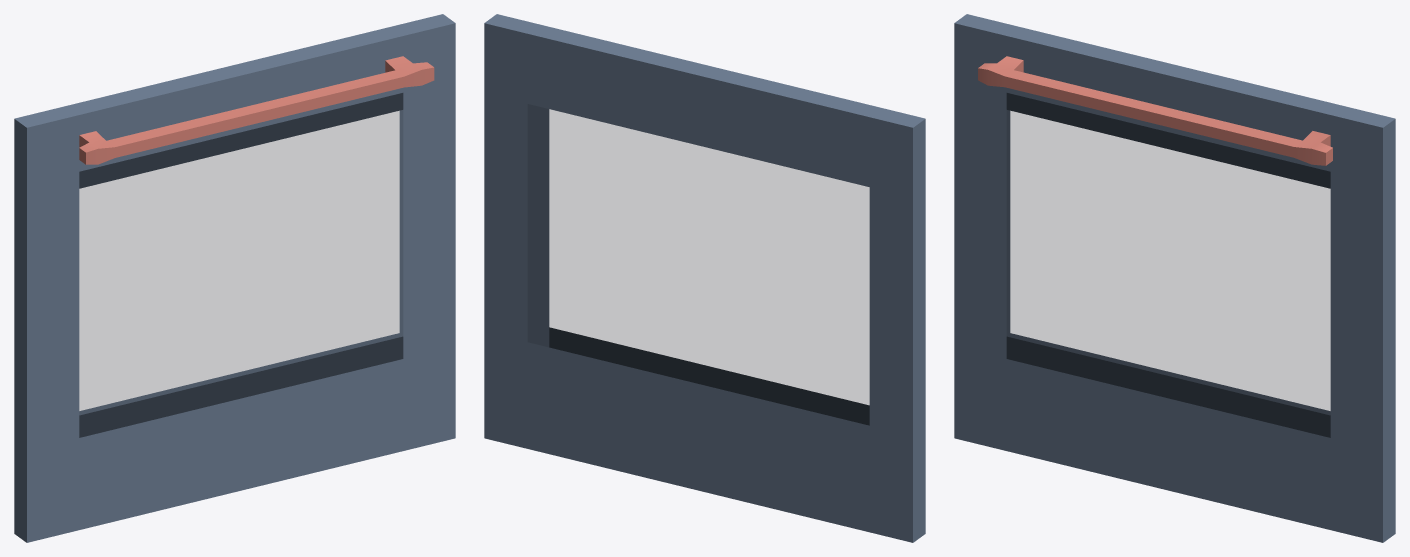
Rendered from ovendoor.fbx.
The picture shows the model from 3 angles, left to right: view 1: azimuth 30°, elevation 25°; view 2: azimuth 150°, elevation 25°; view 3: azimuth 330°, elevation 25°; orthographic projection.
Visible parts, largest first — view 1: pCube2; view 2: pCube2; view 3: pCube2.
Boxes of the visible parts, <box> form: pCube2: <box>14,14,455,542</box>; pCube2: <box>484,14,925,542</box>; pCube2: <box>954,14,1395,542</box>.
Size of the model in its own units: 5.79 by 5.35 by 0.7311.
